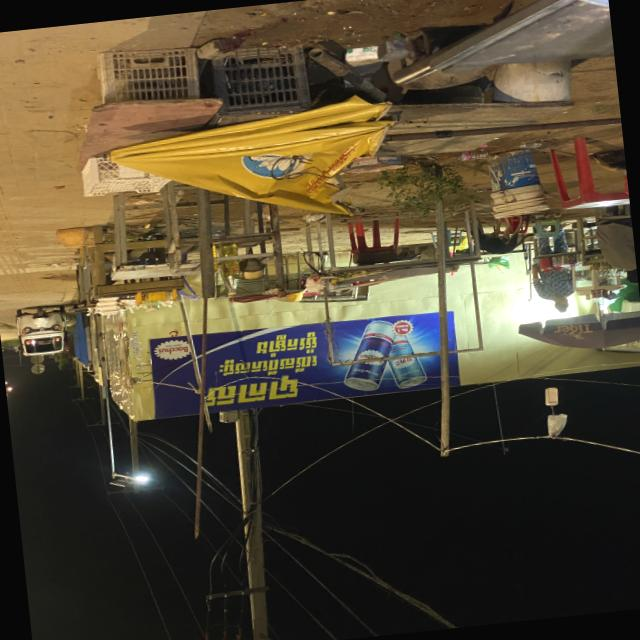Yolov11kh: (194, 373, 304, 410), (217, 352, 321, 379), (244, 330, 322, 359)
